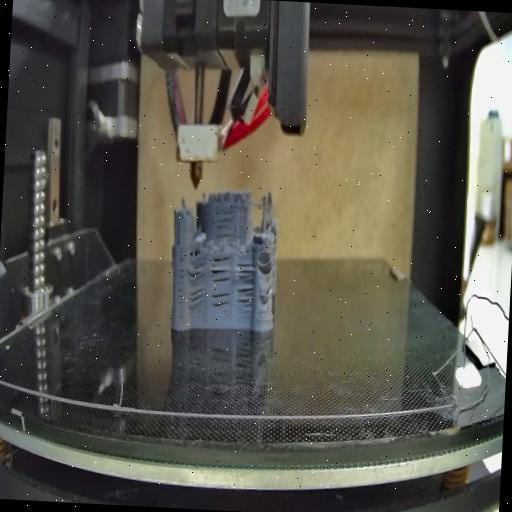cracks: (214, 203, 236, 243), (174, 254, 186, 322), (209, 252, 233, 285), (186, 253, 206, 283), (208, 292, 234, 315), (234, 286, 253, 308), (190, 286, 206, 312), (237, 262, 256, 282), (262, 255, 276, 278), (263, 284, 276, 302)
